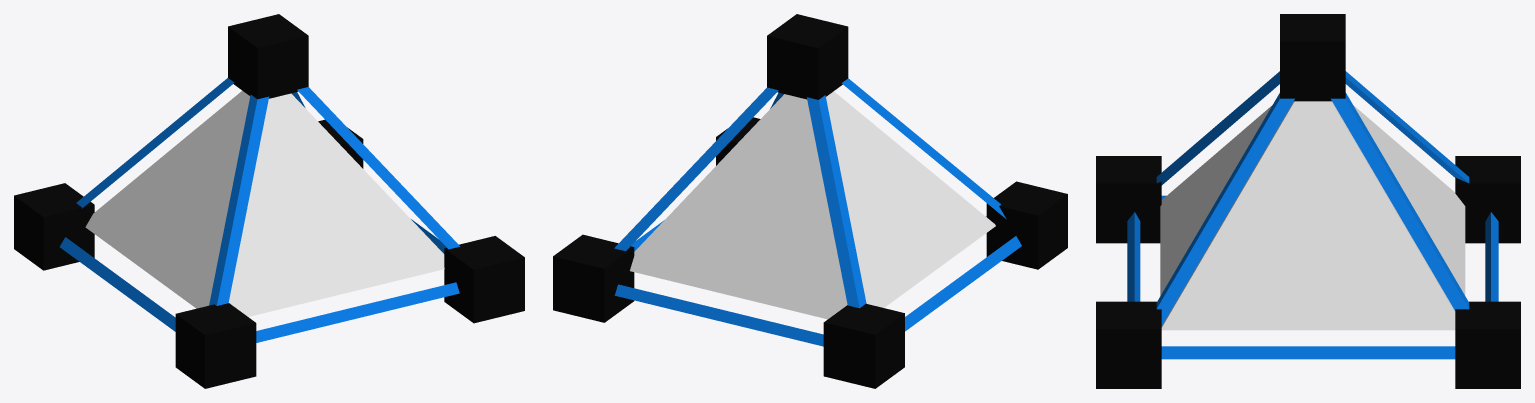
File: CouCapsule.fbx
3 views of the same model, side by side, from view 1: azimuth 30°, elevation 25°; view 2: azimuth 150°, elevation 25°; view 3: azimuth 270°, elevation 25° (orthographic). The views are drawn at different scales.
Parts seen in each view (by area): view 1: Cone.001, Cone, Cube.003, Cube.004, Cube.002, Cube, Cube.001; view 2: Cone.001, Cone, Cube, Cube.004, Cube.001, Cube.003, Cube.002; view 3: Cone.001, Cone, Cube.002, Cube.004, Cube.001, Cube.003, Cube.
Part boxes in pixels (box(x1,y1,x2,y2)): Cone.001: box(85, 90, 444, 316); Cone: box(60, 78, 459, 342); Cube.003: box(175, 303, 256, 388); Cube.004: box(228, 14, 308, 99); Cube.002: box(444, 236, 524, 323); Cube: box(14, 183, 94, 270); Cube.001: box(318, 119, 363, 168); Cone.001: box(630, 91, 995, 319); Cone: box(614, 78, 1021, 346); Cube: box(823, 303, 904, 388); Cube.004: box(767, 14, 848, 99); Cube.001: box(553, 234, 634, 322); Cube.003: box(986, 181, 1067, 269); Cube.002: box(716, 117, 760, 165); Cone.001: box(1160, 101, 1465, 330); Cone: box(1127, 71, 1498, 359); Cube.002: box(1096, 301, 1161, 388); Cube.004: box(1280, 14, 1345, 101); Cube.001: box(1455, 301, 1520, 388); Cube.003: box(1096, 156, 1161, 243); Cube: box(1455, 156, 1520, 243).
Bounding box in the file's own units: 313 × 231 × 323.
